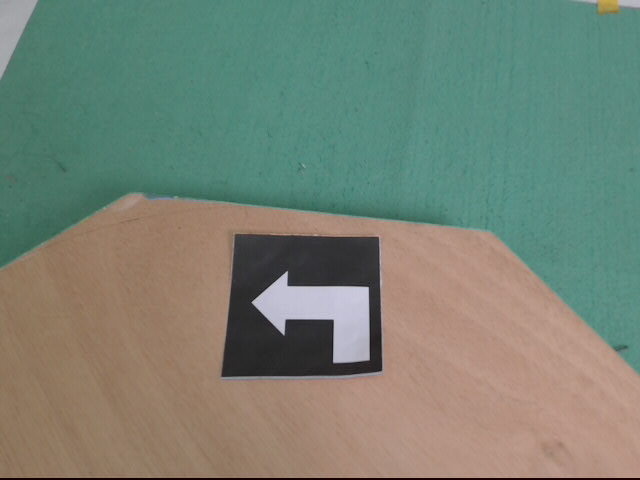left: (221, 232, 385, 380)
